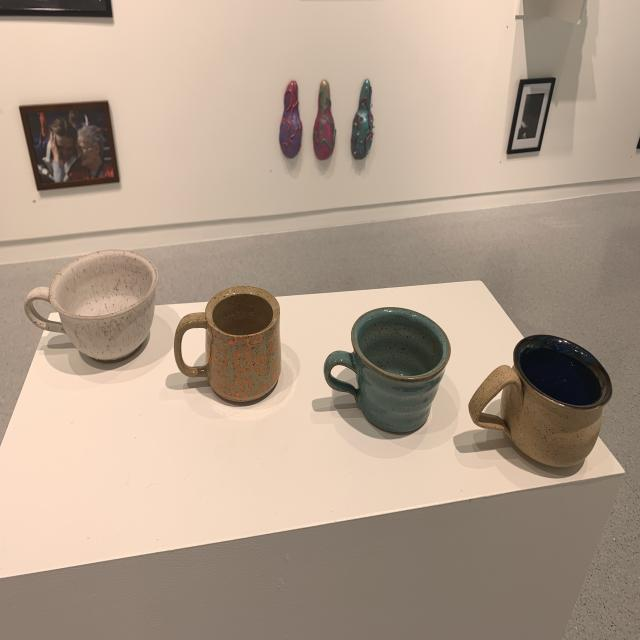Cup: (470, 328, 613, 482), (20, 239, 158, 372), (323, 302, 451, 438), (172, 282, 286, 409)
